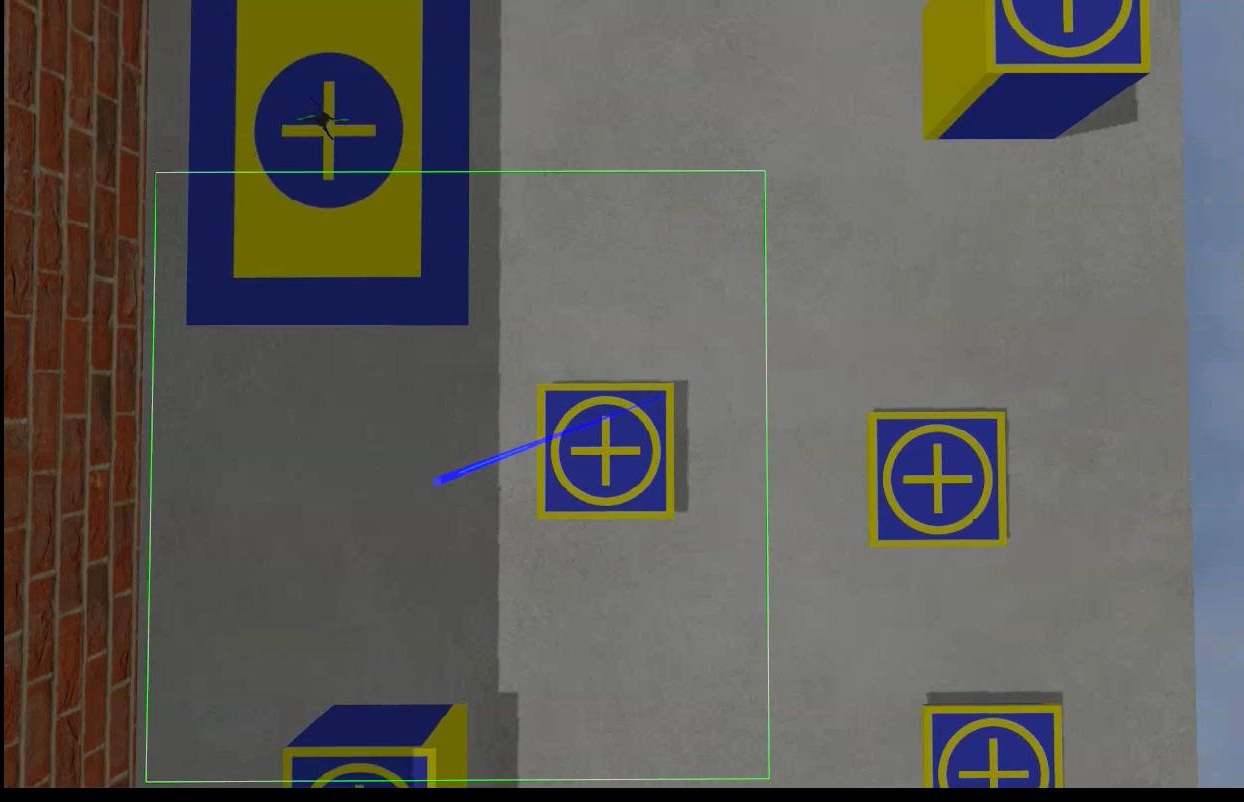large_base: (181, 1, 472, 333)
small_base: (533, 380, 676, 522), (864, 414, 1007, 552), (984, 1, 1151, 78), (921, 702, 1060, 788), (285, 744, 440, 791)
